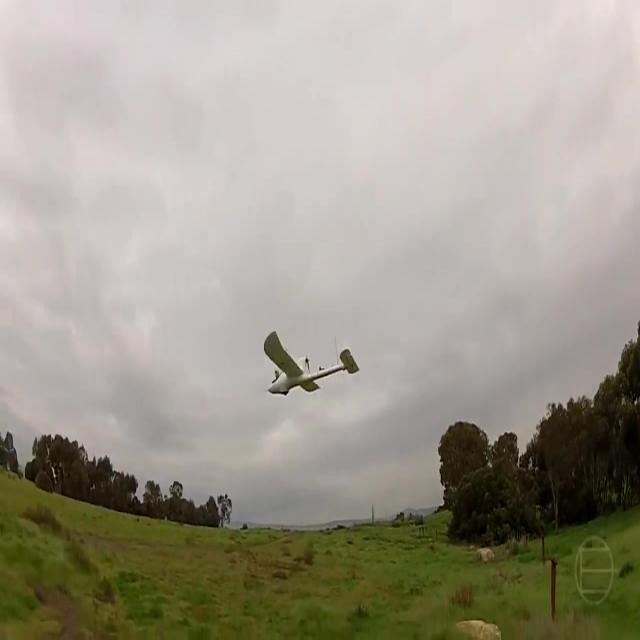iha: (295, 361, 328, 365)
